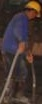boots: (3, 72, 30, 104), (0, 90, 13, 104)
gloves: (25, 50, 34, 63), (0, 96, 10, 104)
hard-hat: (0, 0, 16, 21)
